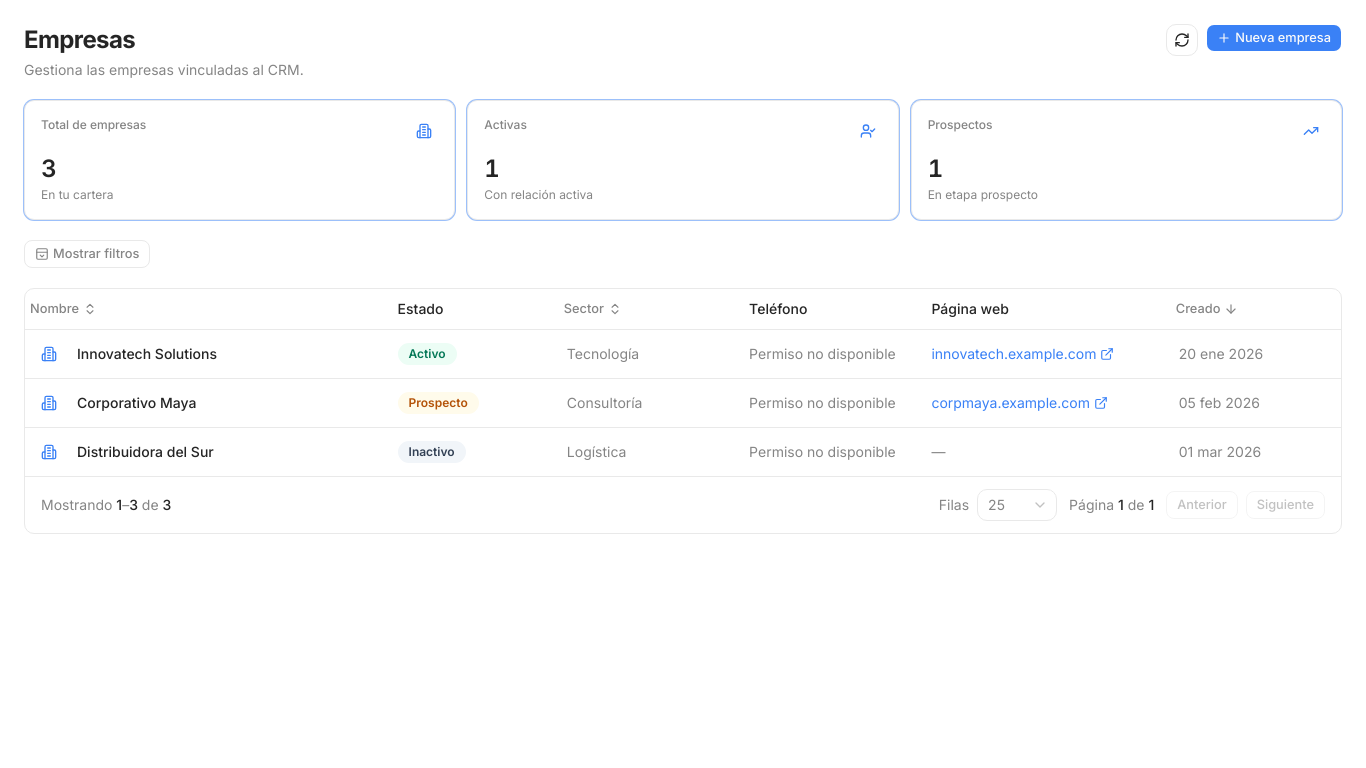
Scenario: EmpresasListPage › storage corrupto de presets no rompe la página
This screenshot has width=1366, height=768.
Expected: the button "Innovatech Solutions" is shown, [77,344,382,364]
Click the button "Mostrar filtros" at (87, 254), box [24,240,150,268]
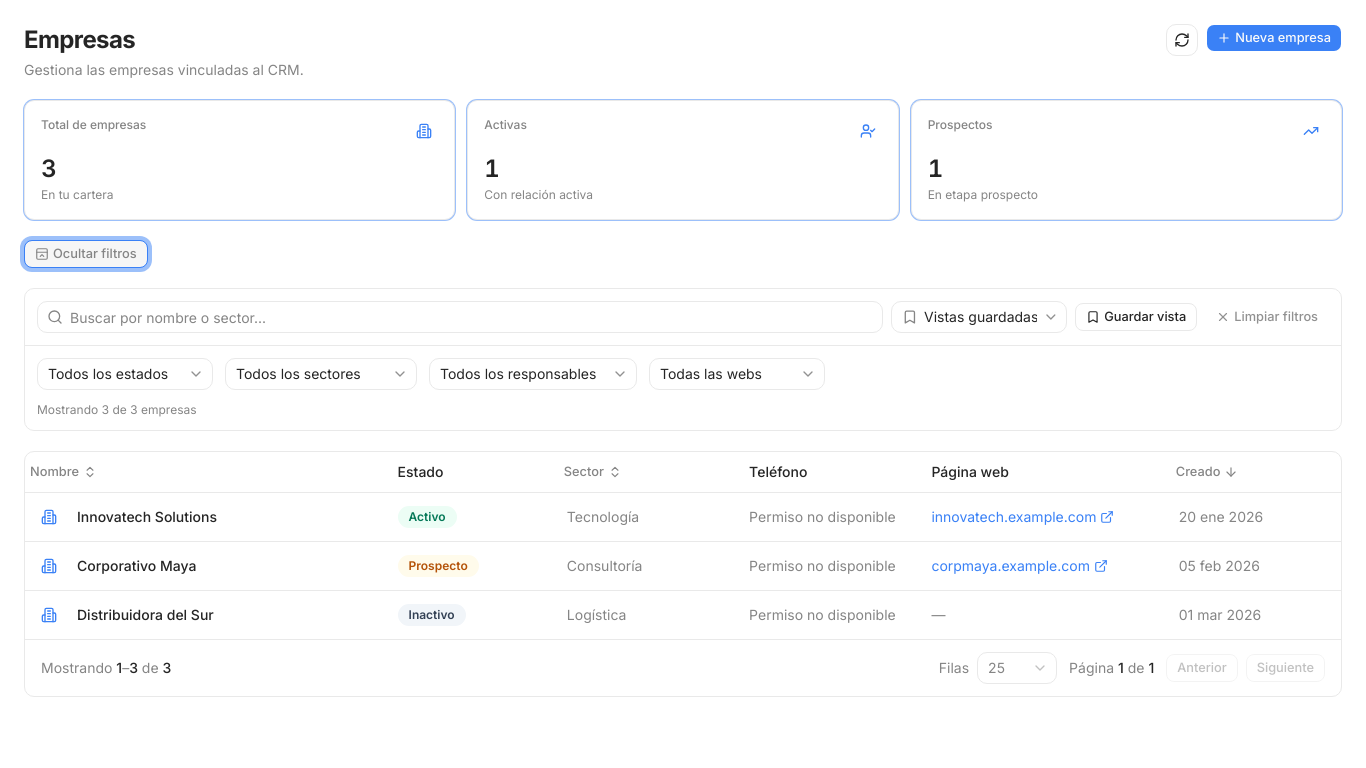
Now the dropdown labelled "Vistas guardadas" is shown, box [891,301,1067,333]
